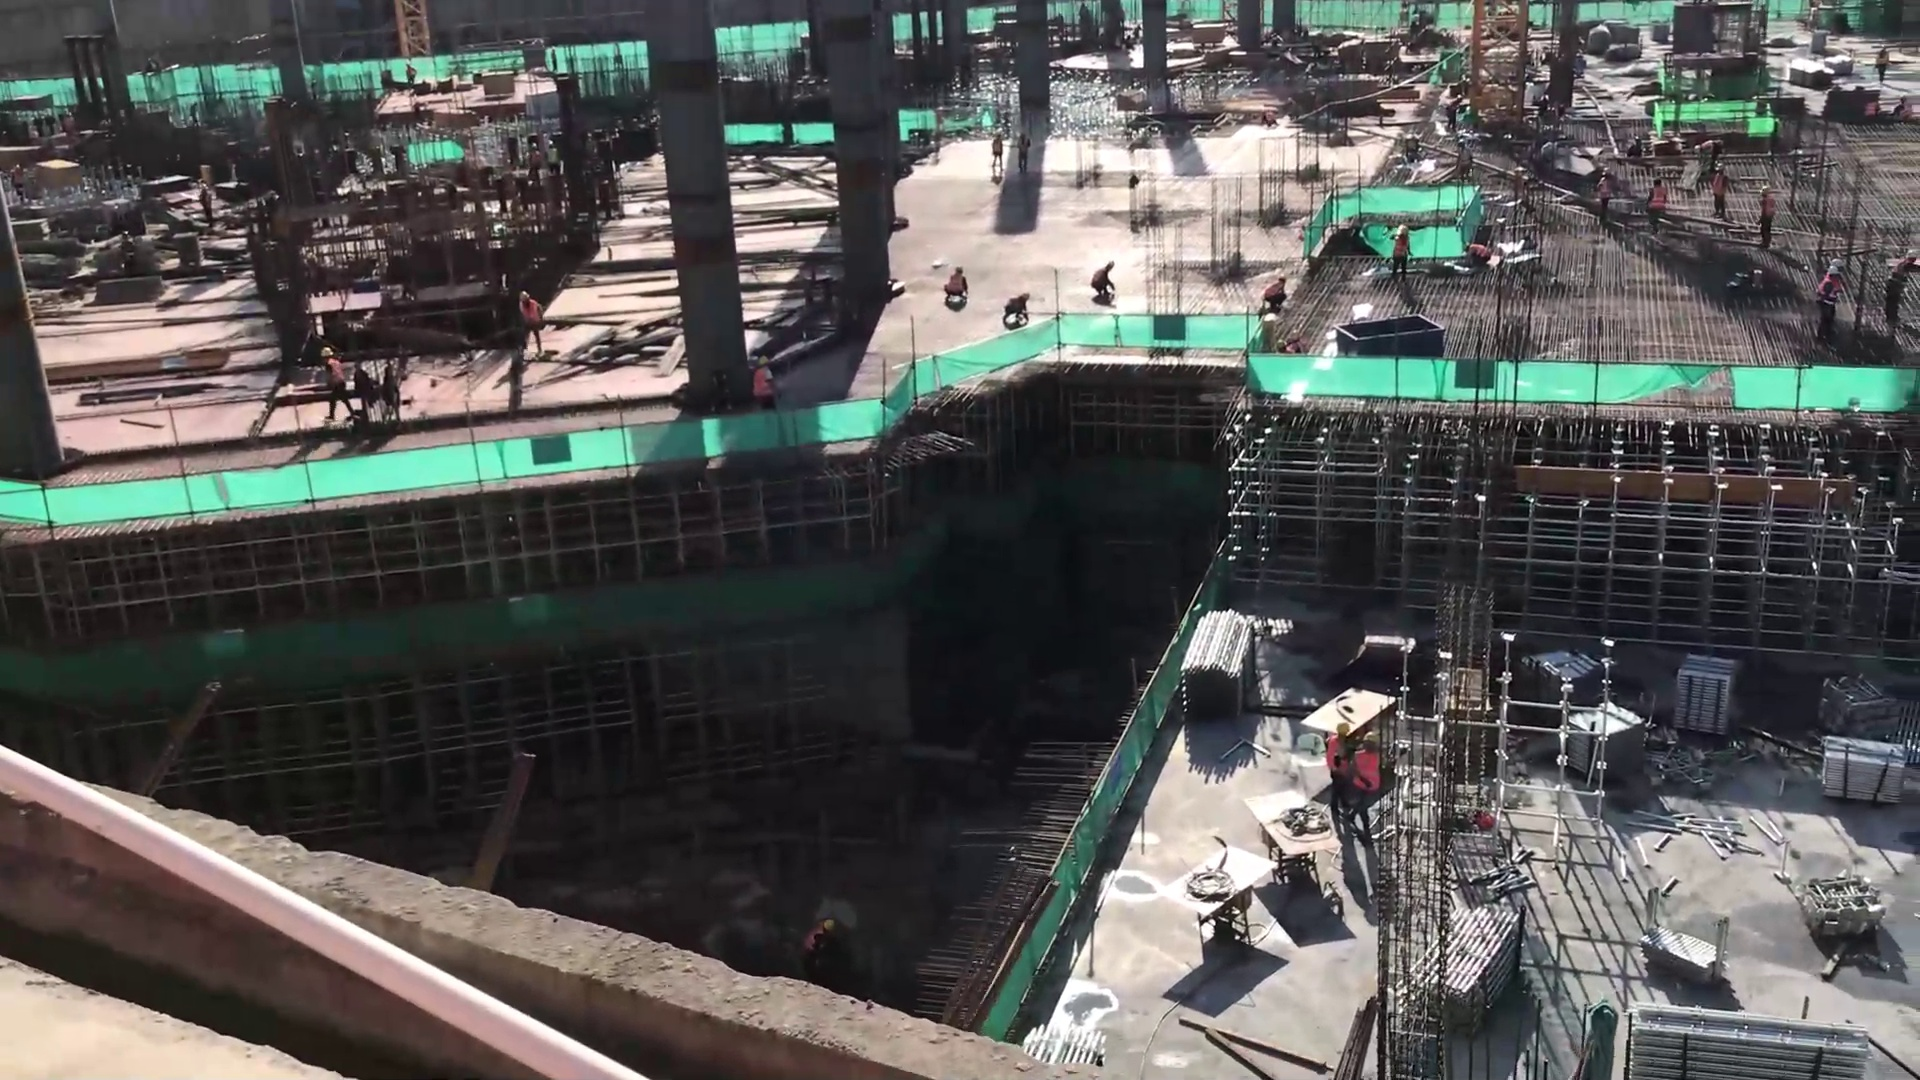person: (1356, 732, 1378, 846), (321, 346, 353, 422), (513, 287, 546, 350), (1325, 723, 1348, 811), (751, 355, 782, 408), (1826, 260, 1841, 340), (1000, 290, 1031, 326), (942, 266, 968, 307), (1389, 226, 1409, 278), (1757, 184, 1772, 247), (1092, 259, 1115, 299), (1710, 159, 1726, 218), (1453, 139, 1473, 185), (1647, 178, 1666, 226), (1598, 165, 1614, 215), (1014, 131, 1032, 173), (1263, 274, 1286, 308), (1462, 241, 1491, 268), (1444, 93, 1465, 129), (989, 128, 1004, 174)
